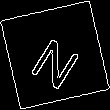N_NE: (24, 23, 86, 87)
